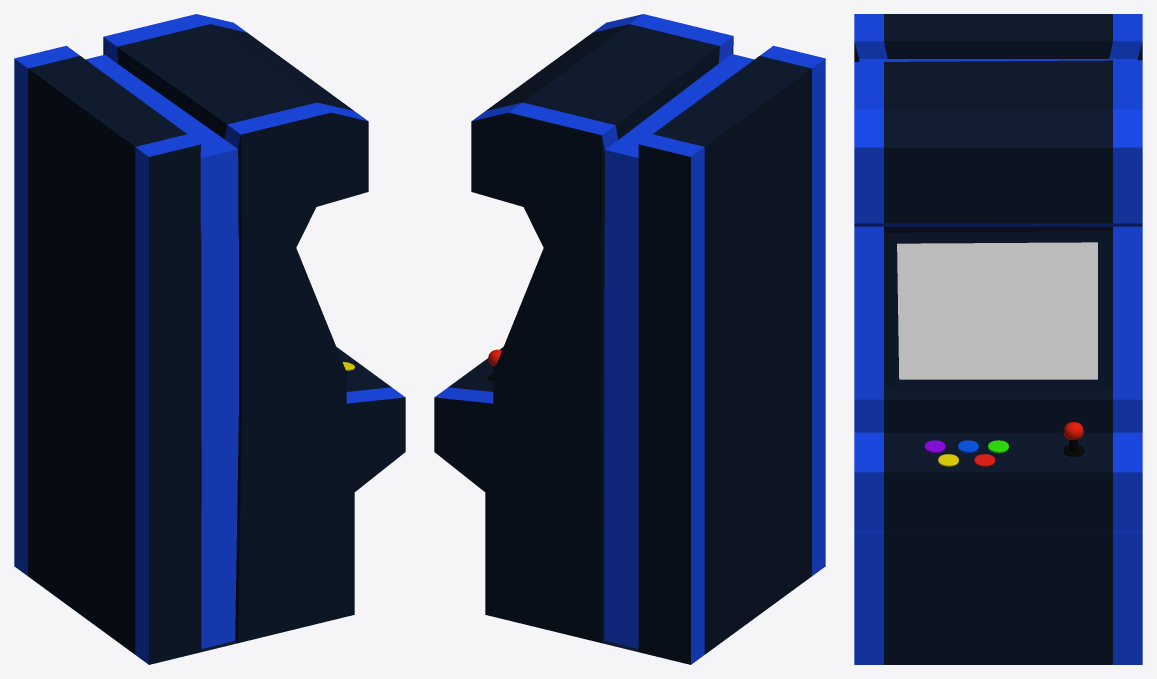
Rendered from Maquinita.fbx.
3 views of the same model, side by side, from view 1: azimuth 30°, elevation 25°; view 2: azimuth 150°, elevation 25°; view 3: azimuth 270°, elevation 25° (orthographic). The views are drawn at different scales.
Visible parts, largest first — view 1: Maquinita; view 2: Maquinita; view 3: Maquinita.
Boxes of the visible parts, x1,y1,x2,y2 form: Maquinita: (14,14,405,664); Maquinita: (434,14,825,664); Maquinita: (854,14,1142,664).
Size of the model in its own units: 132 by 249 by 120.
